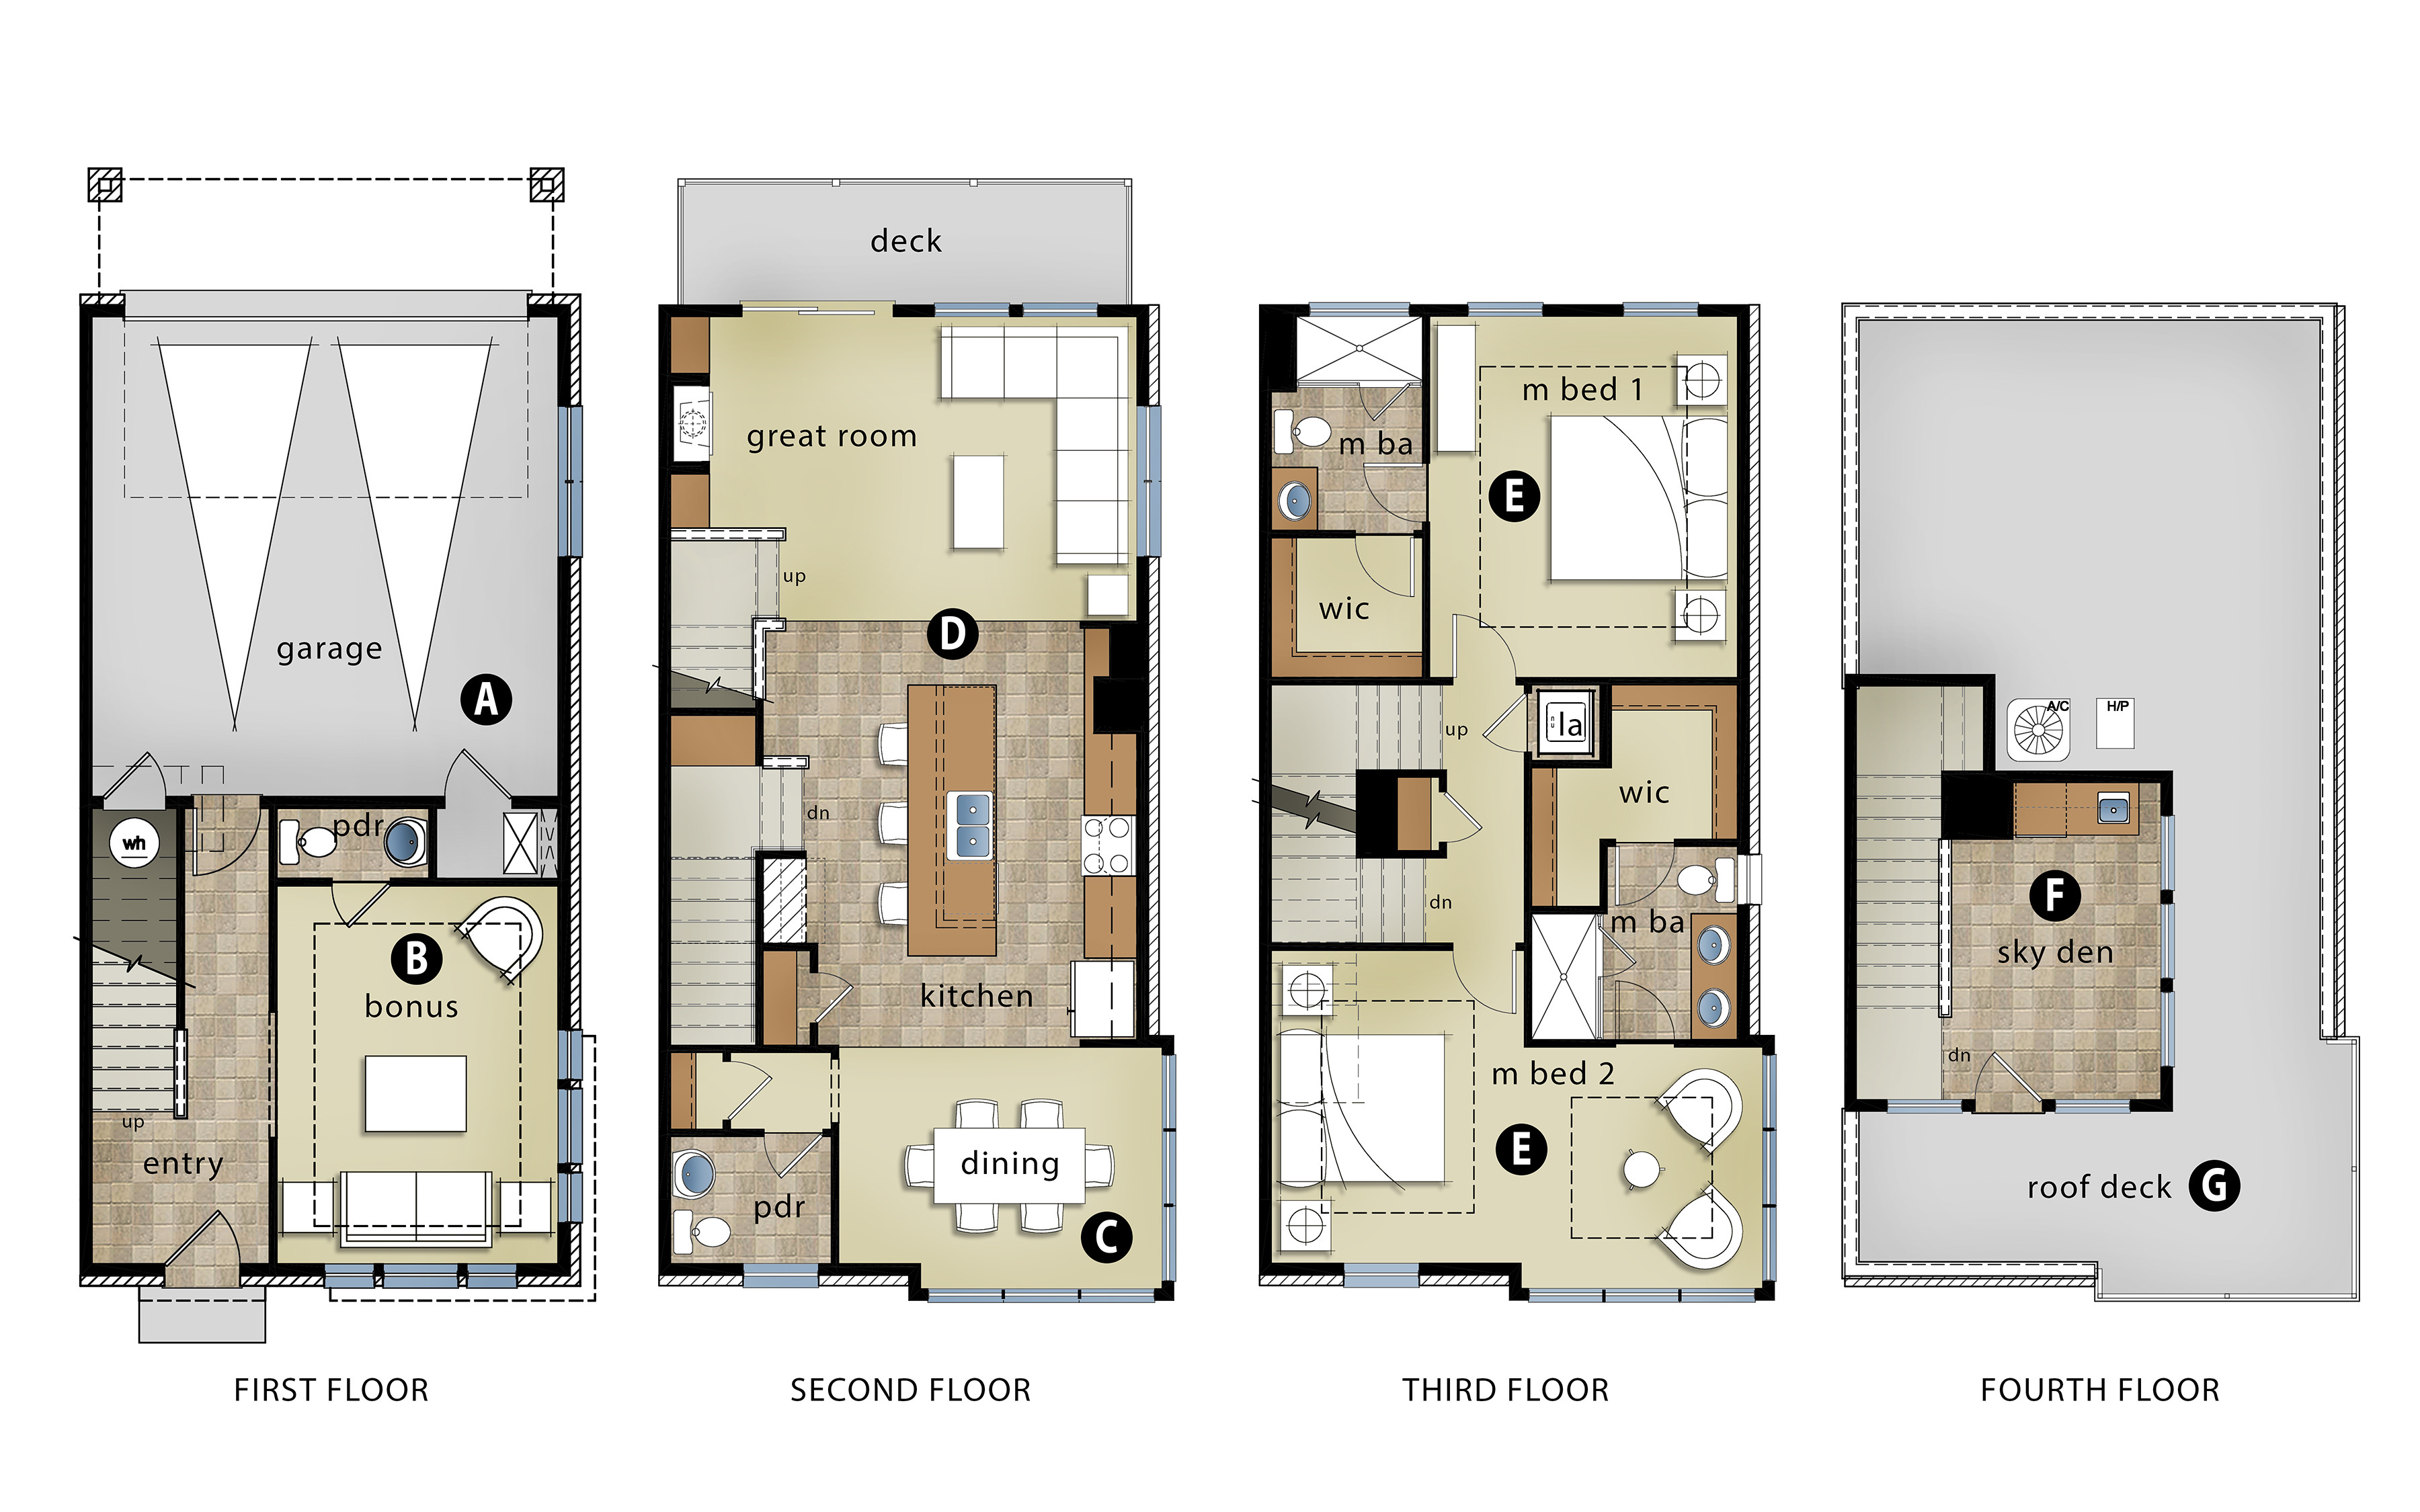door: (1451, 942, 1518, 1017), (1357, 460, 1429, 524), (162, 1209, 239, 1266), (436, 749, 512, 807), (1354, 530, 1416, 599), (1610, 979, 1678, 1040), (1612, 845, 1678, 906), (721, 1061, 775, 1124), (760, 1129, 824, 1178), (1481, 692, 1531, 753), (1437, 791, 1484, 843), (810, 970, 855, 1021)
